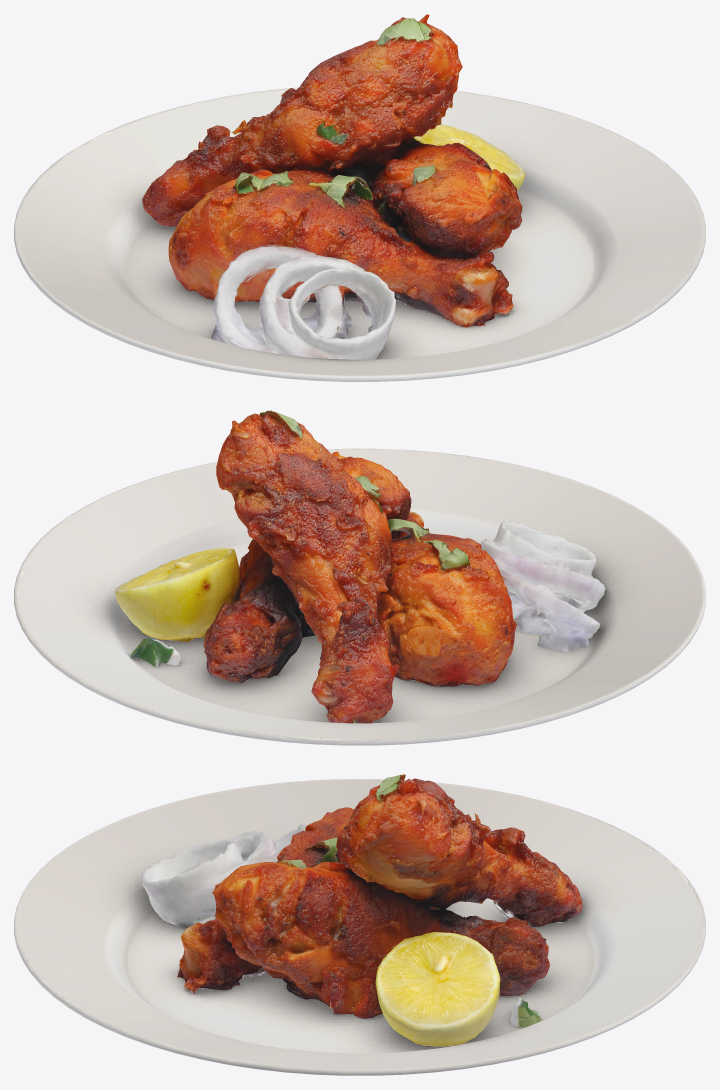
Rendered from chicken.glb.
3 renders of one model, top to bottom at view 1: azimuth 30°, elevation 25°; view 2: azimuth 150°, elevation 25°; view 3: azimuth 270°, elevation 25°, orthographic.
Visible parts, largest first — view 1: Object_2; view 2: Object_2; view 3: Object_2.
Part boxes in pixels (x1,y1,x2,y2): Object_2: [14, 14, 705, 381]; Object_2: [14, 410, 705, 745]; Object_2: [14, 774, 705, 1075].
Size of the model in its own units: 0.3943 by 0.1427 by 0.3943.
Materials: 1 (1 with a texture image).
